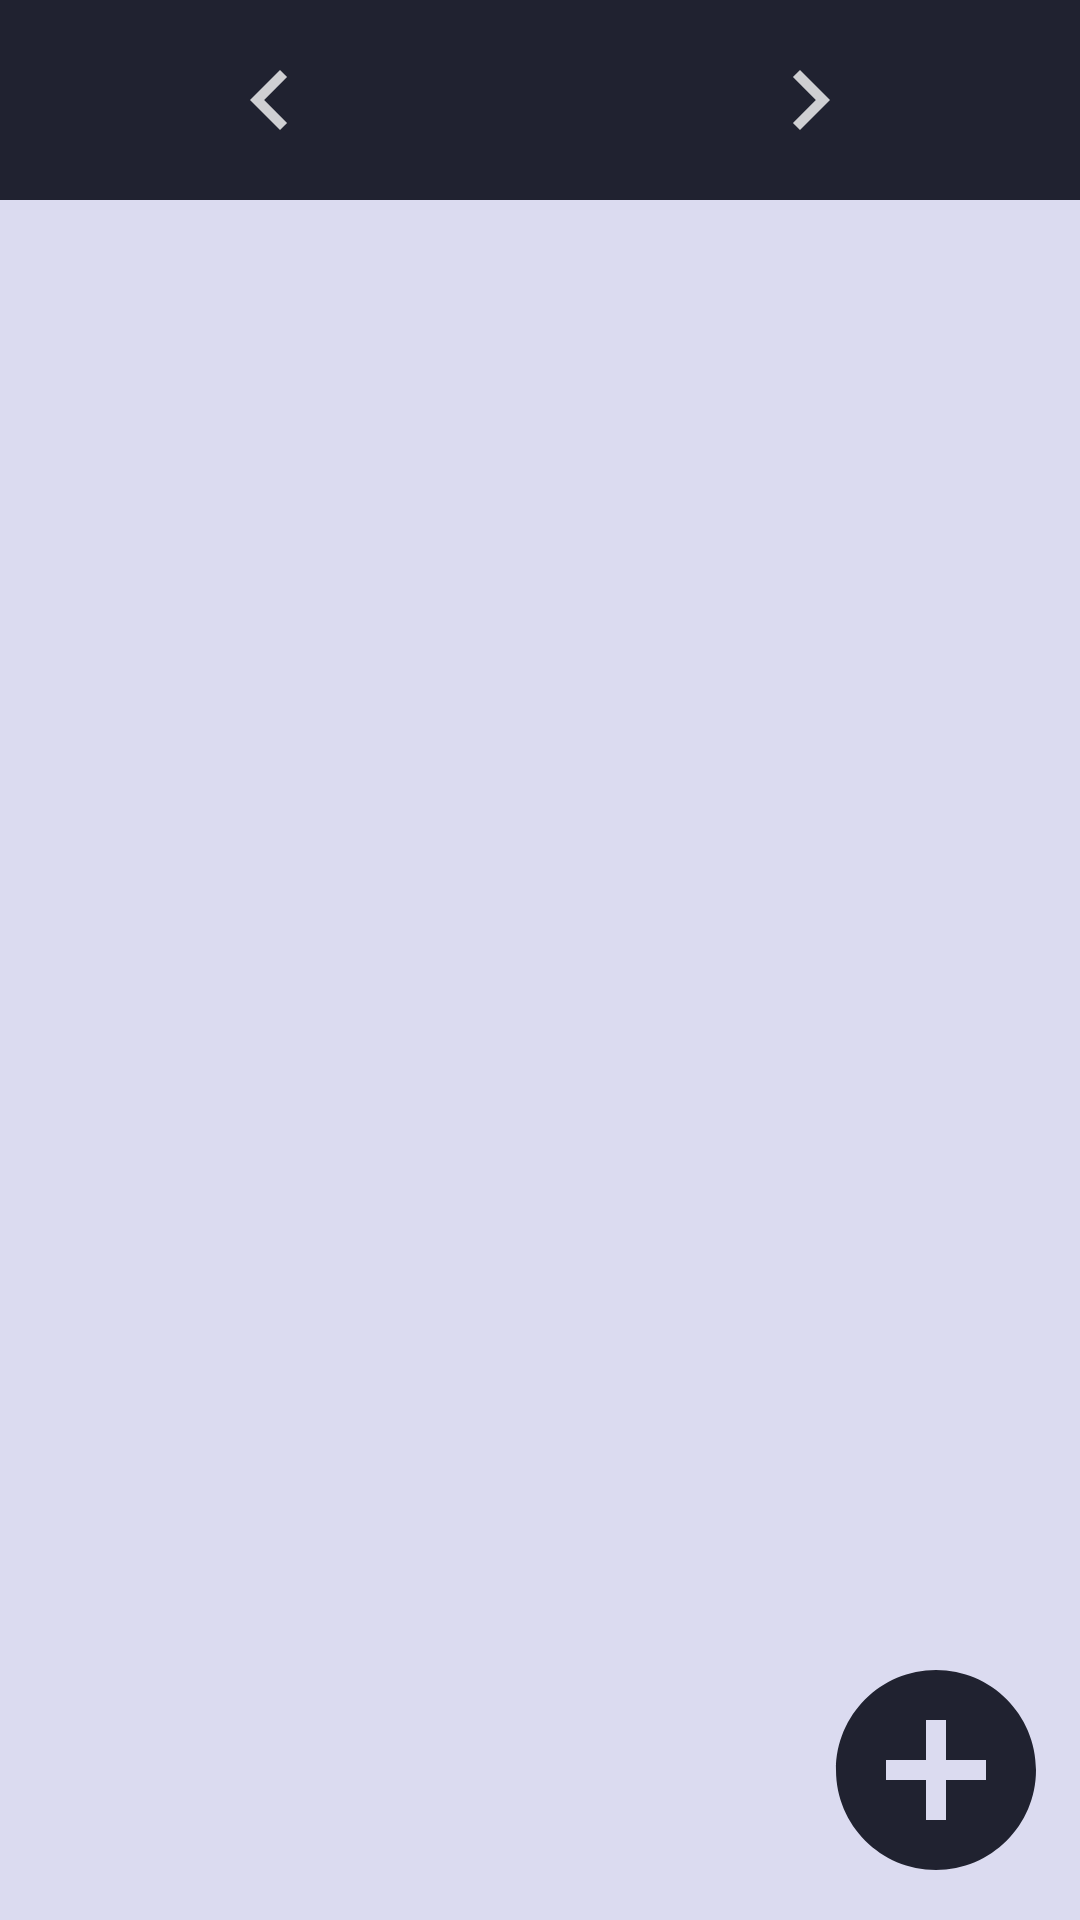

Named icons in this screenshot (1080x1920) and their bounding boxes, bbox(x1, y1, x2, y2):
add: bbox(836, 1670, 1036, 1870)
next date: bbox(793, 70, 830, 130)
prev date: bbox(250, 70, 287, 130)
